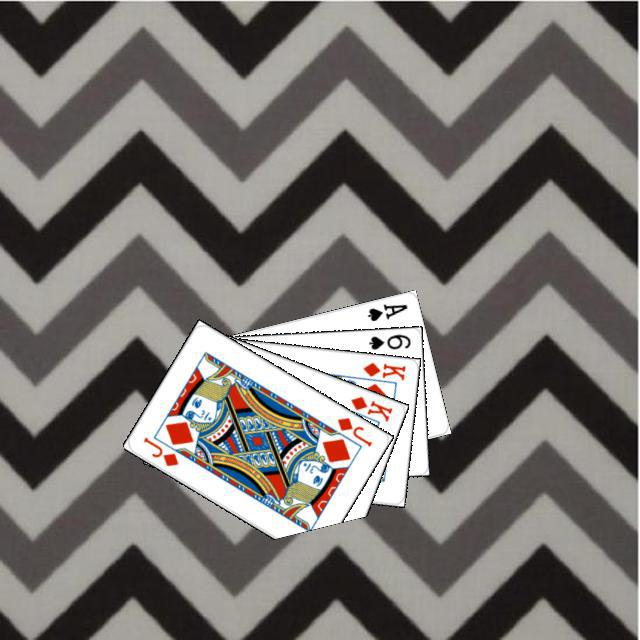6s: (364, 329, 412, 351)
As: (363, 299, 409, 323)
Jd: (332, 412, 374, 449), (138, 432, 180, 468)
Kd: (346, 391, 394, 423), (358, 357, 407, 382)
